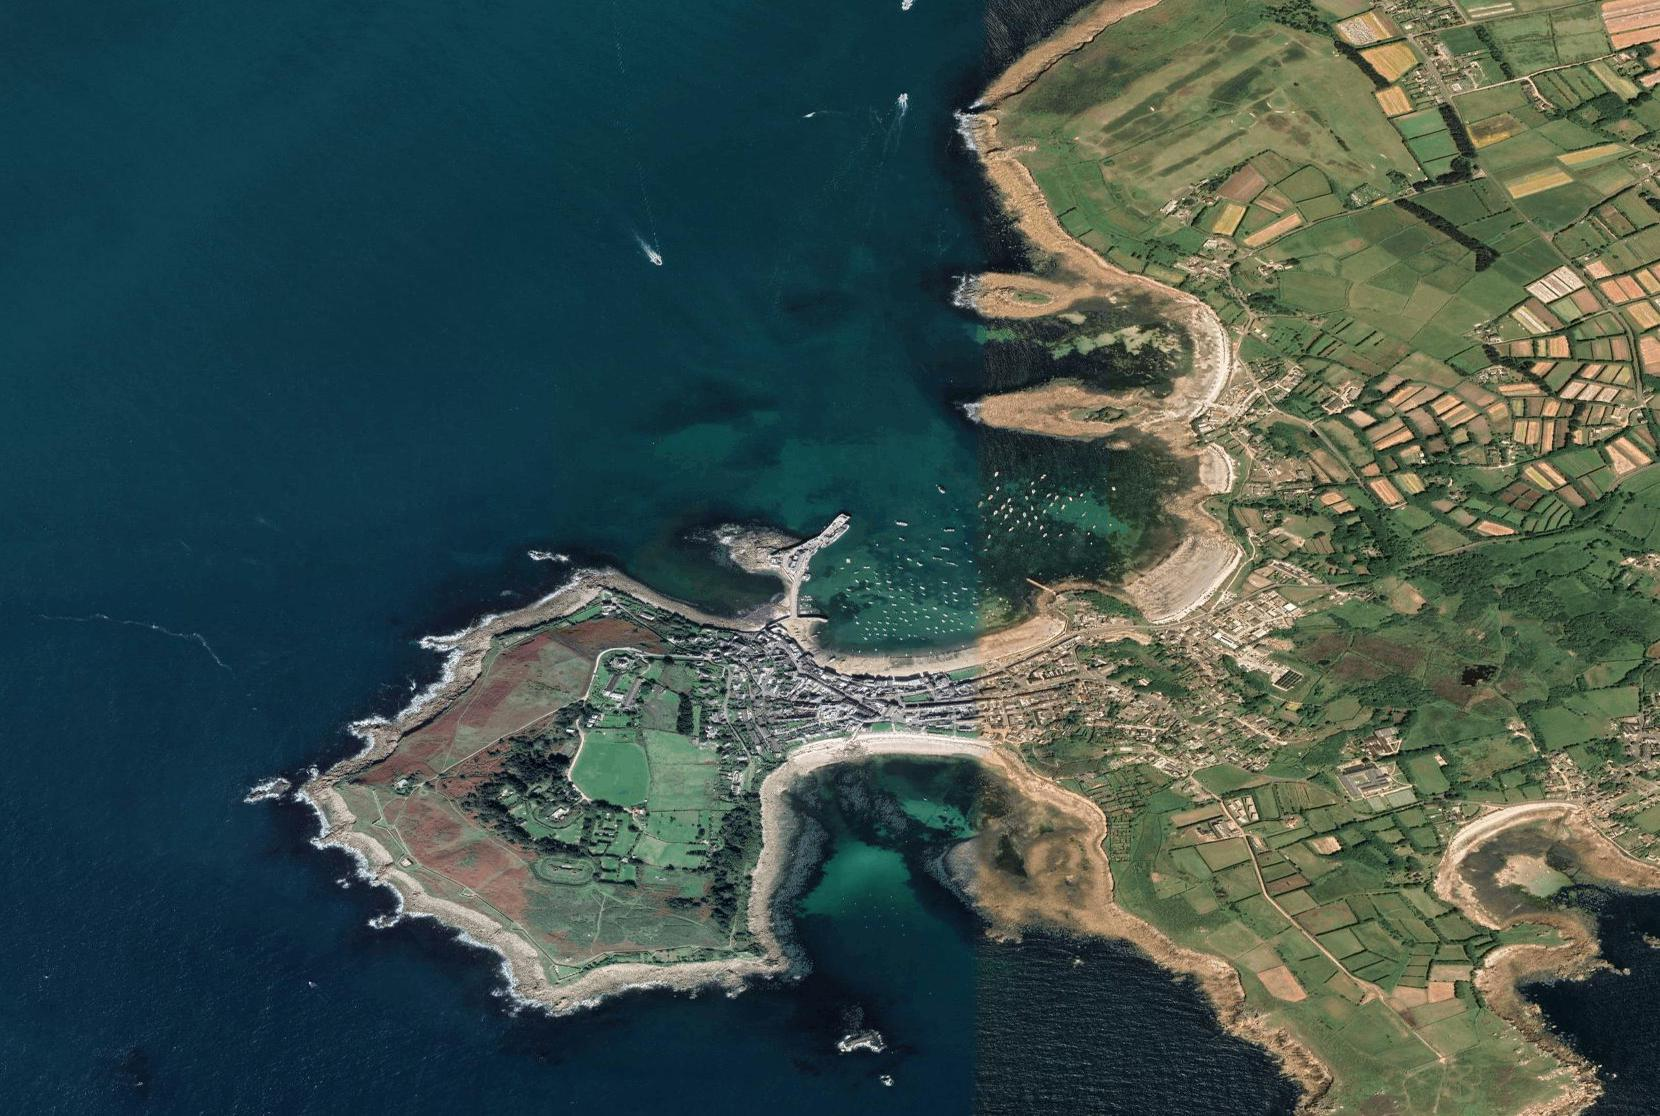harbor: (733, 499, 861, 641)
